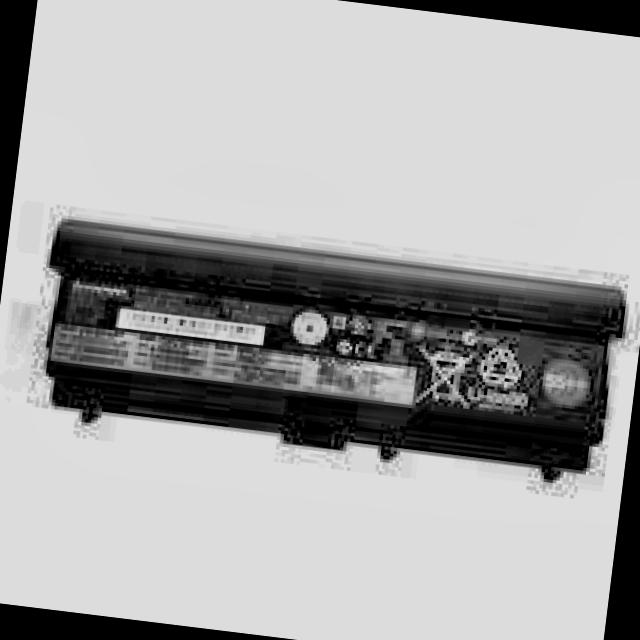Battery: (26, 204, 635, 502)
